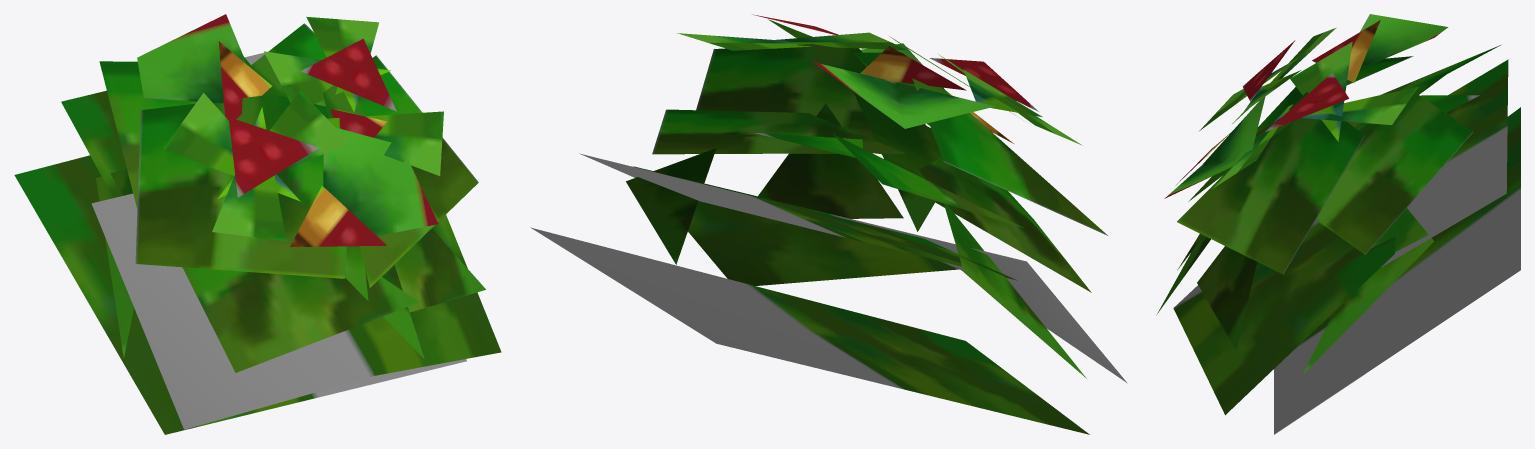
File: fg_bushA_2.dae
3 views of the same model, side by side, from view 1: azimuth 30°, elevation 25°; view 2: azimuth 150°, elevation 25°; view 3: azimuth 270°, elevation 25° (orthographic). The views are drawn at different scales.
Parts seen in each view (by area): view 1: fg_bushA_2; view 2: fg_bushA_2; view 3: fg_bushA_2.
Part boxes in pixels (x1,y1,x2,y2): fg_bushA_2: (14,14,501,434); fg_bushA_2: (530,14,1127,434); fg_bushA_2: (1157,14,1520,434).
Size of the model in its own units: 42.31 by 37.65 by 38.65.
Materials: 1 (1 with a texture image).
